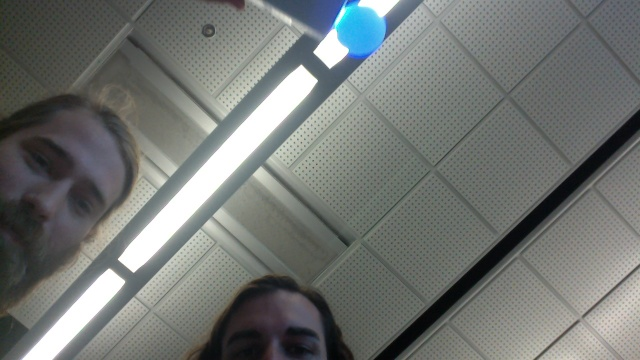wand: (336, 4, 387, 55)
